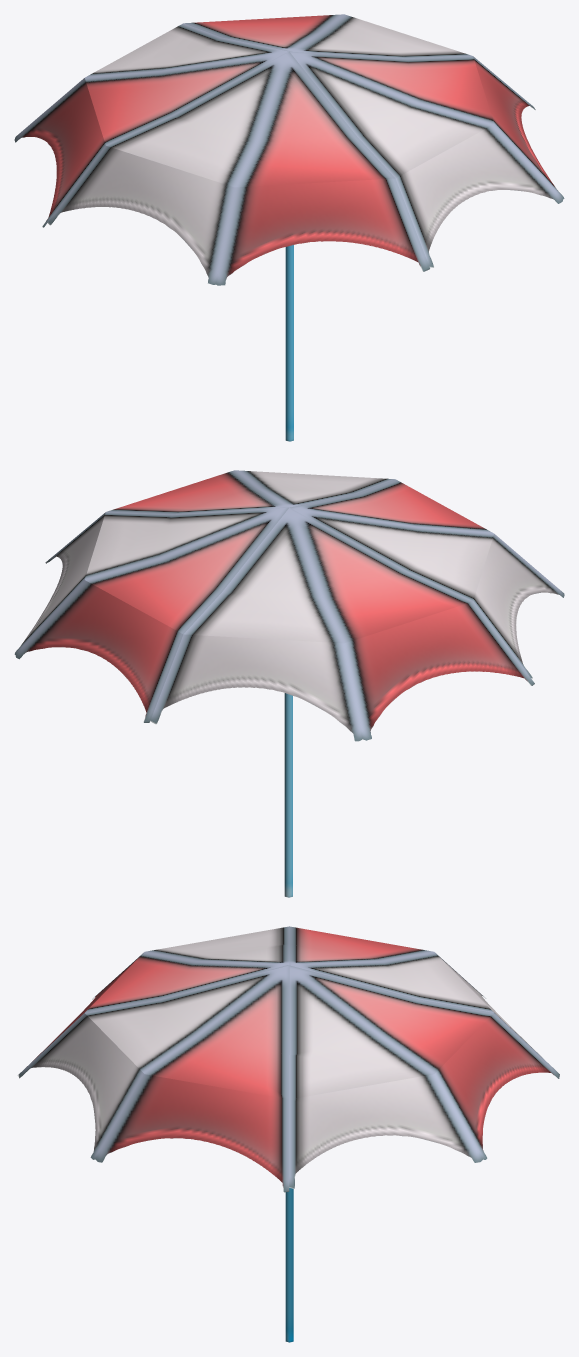
Rendered from parasol.DAE.
3 views of the same model, one above another, from view 1: azimuth 30°, elevation 25°; view 2: azimuth 150°, elevation 25°; view 3: azimuth 270°, elevation 25° (orthographic). The views are drawn at different scales.
Visible parts, largest first — view 1: Cylinder01; view 2: Cylinder01; view 3: Cylinder01.
Part boxes in pixels (bbox=[...]): Cylinder01: bbox=[14, 14, 564, 441]; Cylinder01: bbox=[14, 470, 564, 897]; Cylinder01: bbox=[18, 926, 559, 1342].
Bounding box in the file's own units: 5.59 × 4.2 × 5.59.
